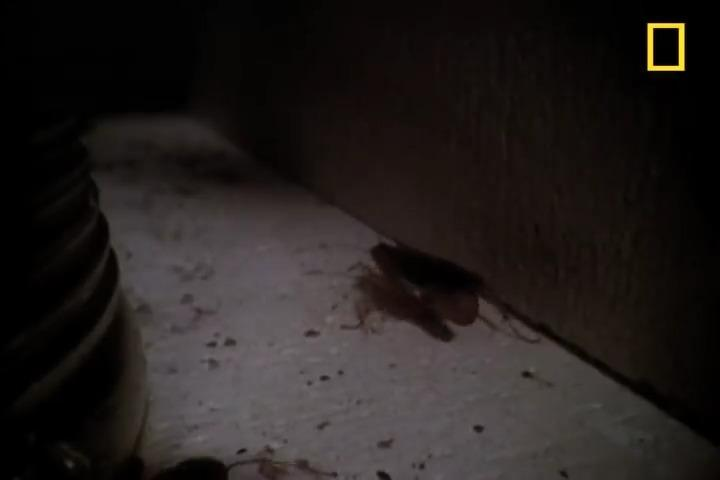cockroach: (341, 223, 525, 355)
